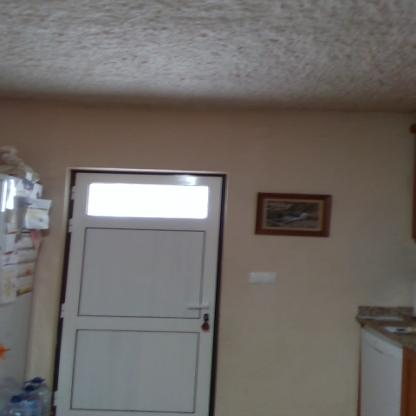closed: (49, 168, 241, 416)
